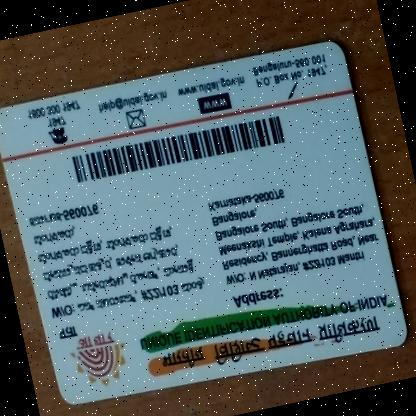aadhaar_card: (0, 30, 410, 415)
